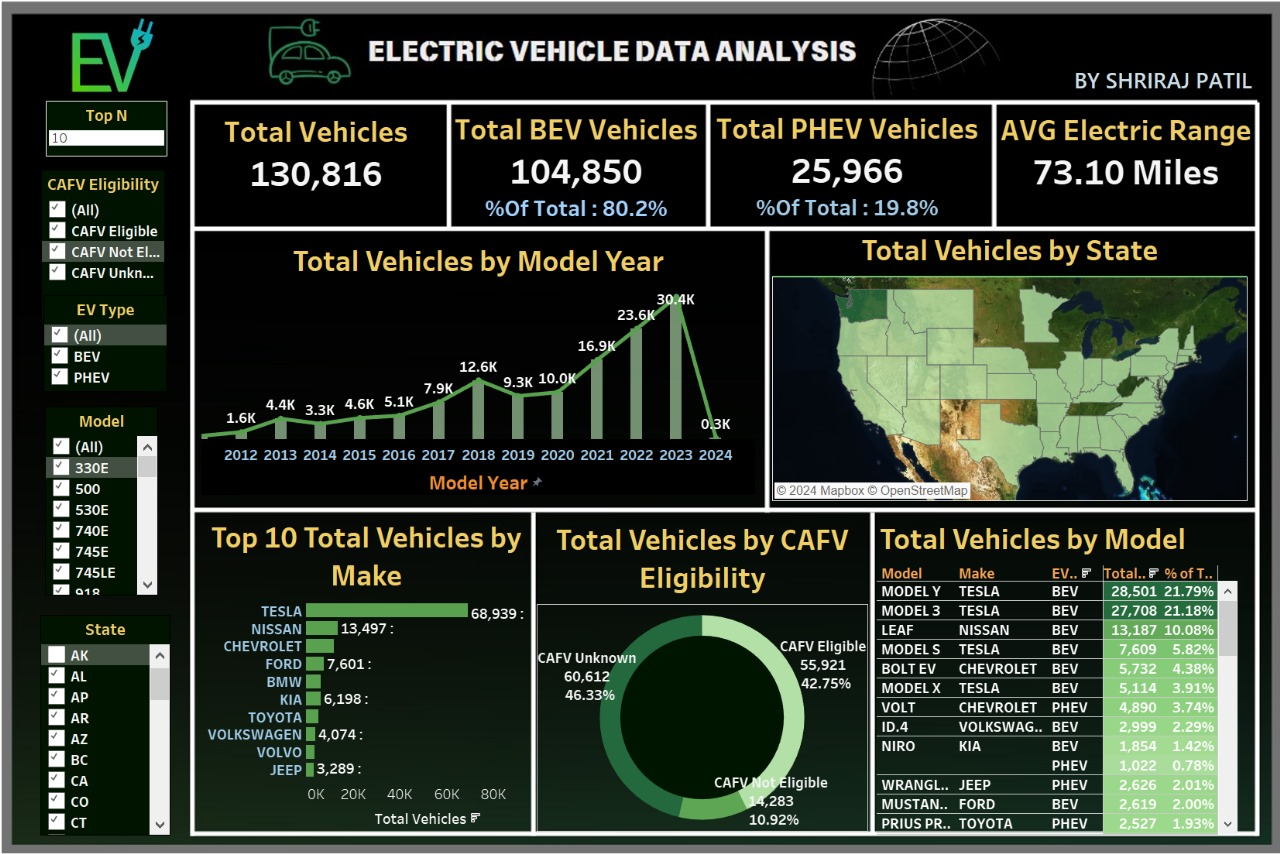

Layout of this report page (visuals, bound fields, positions):
{"tool":"tableau","page":{"name":"ELECTRIC VEHICLE DATA ANALYSIS","canvas":[1800,1100],"ordinal":0},"visuals":[{"type":"image","param":"D:/Bank Loan Project/Electrical vehichels analysis/ev logo.jpg","box":[95,50,181,102]},{"type":"text","box":[1390,105,258,52]},{"type":"worksheet","title":"Total Vehicles","mark":"Automatic","box":[285,151,312,148]},{"type":"worksheet","title":"Total BEV Vehicles","mark":"Automatic","box":[547,155,408,173]},{"type":"parameter","param":"[Parameters].[Parameter 1]","box":[66,158,157,72]},{"type":"worksheet","title":"Total PHEV Vehicles ","mark":"Automatic","box":[921,167,368,159]},{"type":"worksheet","title":"AVG Electric Range","mark":"Automatic","box":[1291,169,345,133]},{"type":"filter","title":"Total Vehicles by Model Year","param":"[federated.0psxz5u0wgm23i1e05qw50ssd1yk].[none:Clean Alternative Fuel Vehicle (C","box":[60,247,160,194]},{"type":"worksheet","title":"Total Vehicles by State","mark":"Automatic","box":[1004,321,614,354]},{"type":"worksheet","title":"Total Vehicles by Model Year","mark":"Area","rows":["Calculation_91760899147780096","Calculation_91760899147780096"],"cols":["Model Year"],"box":[267,335,715,332]},{"type":"filter","title":"Total Vehicles by Model Year","param":"[federated.0psxz5u0wgm23i1e05qw50ssd1yk].[none:Electric Vehicle Type:nk]","box":[63,409,160,125]},{"type":"filter","title":"Total Vehicles by Model Year","param":"[federated.0psxz5u0wgm23i1e05qw50ssd1yk].[none:Model:nk]","box":[65,553,146,244]},{"type":"worksheet","title":"Top 10 Total Vehicles by Make","mark":"Bar","rows":["Make"],"cols":["Calculation_91760899147780096"],"box":[262,692,436,412]},{"type":"worksheet","title":"Total Vehicles by CAFV Eligibility","mark":"Pie","rows":["Calculation_91760899178348555","Calculation_91760899178348555"],"box":[700,695,428,407]}]}

Visuals, with their boxes on the page's 1800x1100 design canvas (x1, y1, x2, y2). These are canvas units, not pixel positions in the 1280x854 screenshot, which may show the page scaled, cropped or inside an application window:
image: 95,50,276,152
text: 1390,105,1648,157
"Total Vehicles" worksheet: 285,151,597,299
"Total BEV Vehicles" worksheet: 547,155,955,328
parameter: 66,158,223,230
"Total PHEV Vehicles " worksheet: 921,167,1289,326
"AVG Electric Range" worksheet: 1291,169,1636,302
"Total Vehicles by Model Year" filter: 60,247,220,441
"Total Vehicles by State" worksheet: 1004,321,1618,675
"Total Vehicles by Model Year" worksheet (Area marks): 267,335,982,667
"Total Vehicles by Model Year" filter: 63,409,223,534
"Total Vehicles by Model Year" filter: 65,553,211,797
"Top 10 Total Vehicles by Make" worksheet (Bar marks): 262,692,698,1104
"Total Vehicles by CAFV Eligibility" worksheet (Pie marks): 700,695,1128,1102
